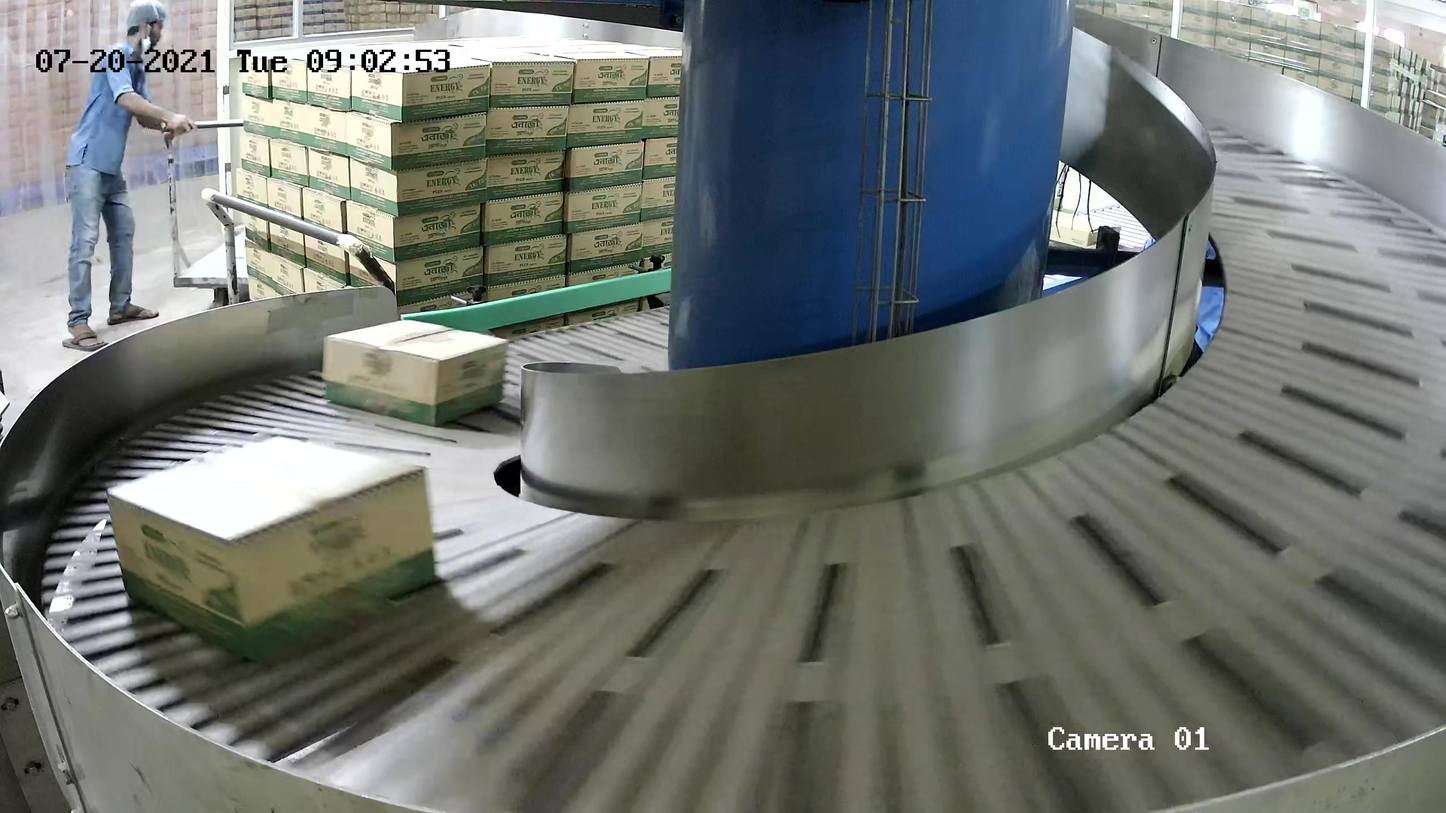Box: (106, 434, 441, 665), (322, 316, 509, 429)
